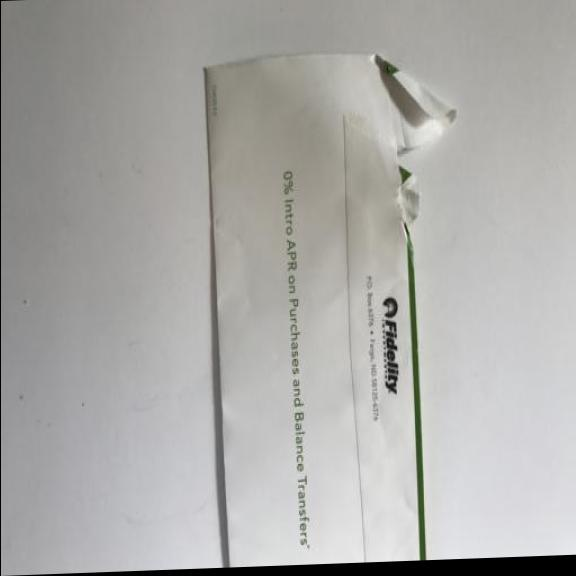Kertas: (182, 29, 462, 568)
